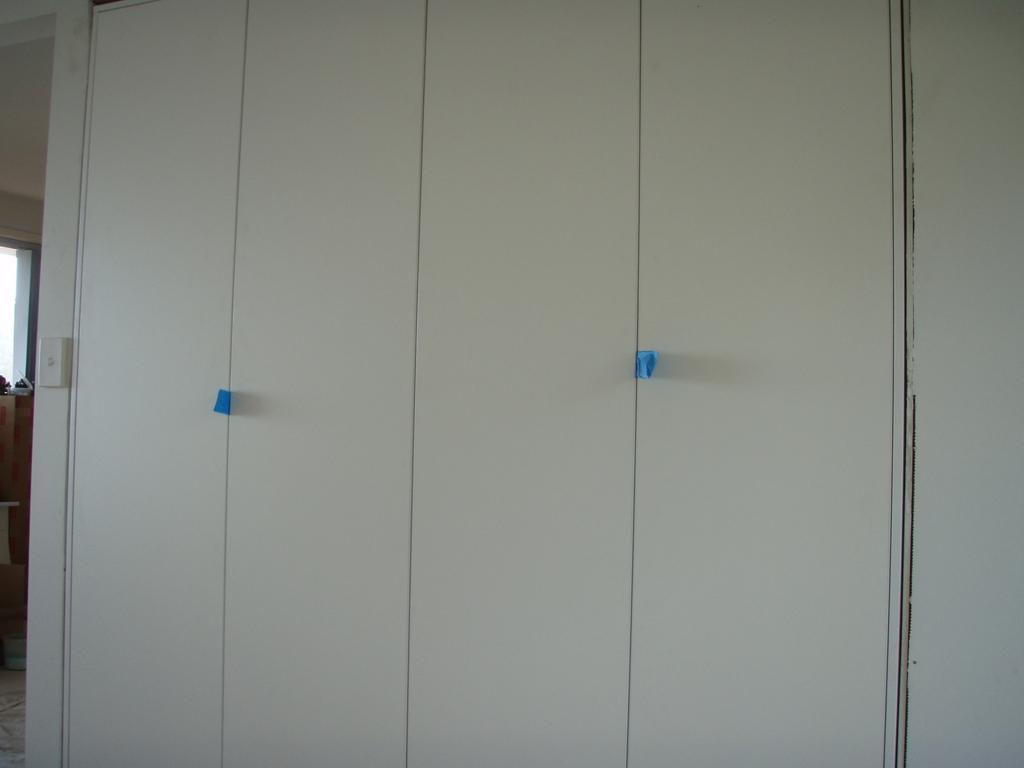cabinet_door: (647, 32, 884, 766), (426, 37, 630, 738), (236, 60, 407, 755), (98, 34, 228, 754)
handle: (208, 383, 230, 421), (636, 351, 658, 388)
